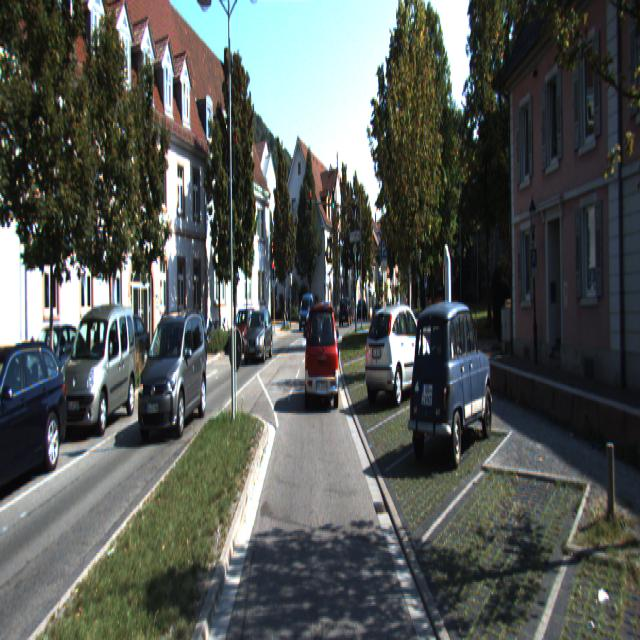Car: (406, 297, 496, 473), (0, 336, 71, 502), (59, 304, 137, 442), (136, 311, 208, 440), (364, 302, 432, 403), (97, 312, 153, 384), (306, 304, 340, 411), (163, 308, 209, 381), (243, 307, 274, 362), (228, 309, 260, 355), (299, 294, 314, 331), (339, 297, 352, 328)
